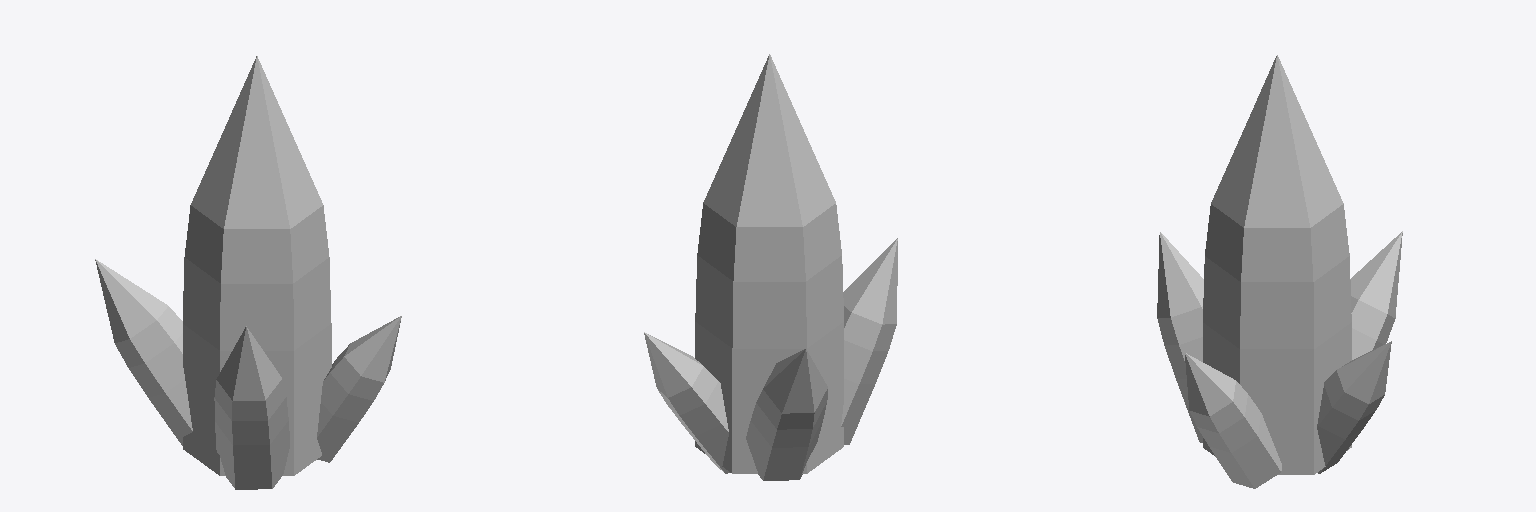
Rendered from crystal.obj.
3 renders of one model, left to right at view 1: azimuth 30°, elevation 25°; view 2: azimuth 150°, elevation 25°; view 3: azimuth 270°, elevation 25°, orthographic.
Visible parts, largest first — view 1: Cylinder_Cylinder.002; view 2: Cylinder_Cylinder.002; view 3: Cylinder_Cylinder.002.
Part boxes in pixels (left/top/right/bottom): Cylinder_Cylinder.002: left=95, top=56, right=401, bottom=489; Cylinder_Cylinder.002: left=644, top=54, right=897, bottom=480; Cylinder_Cylinder.002: left=1157, top=55, right=1402, bottom=488.
Size of the model in its own units: 15.23 by 29.5 by 16.28.